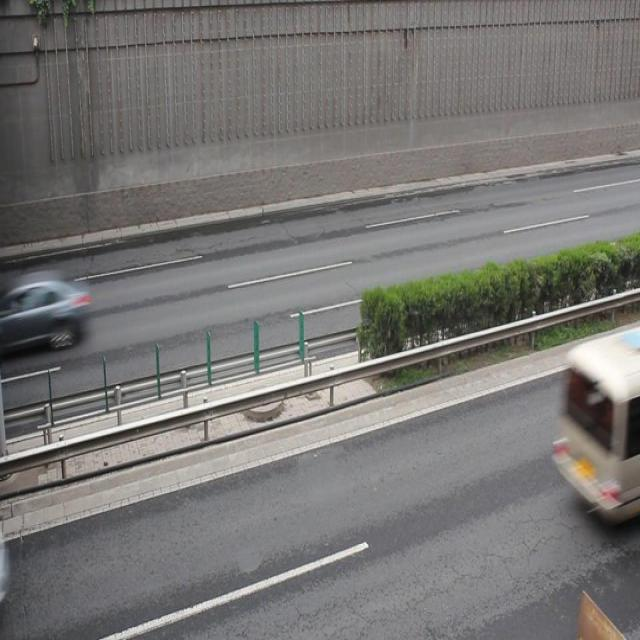car: (15, 268, 90, 355)
van: (550, 324, 640, 519)
